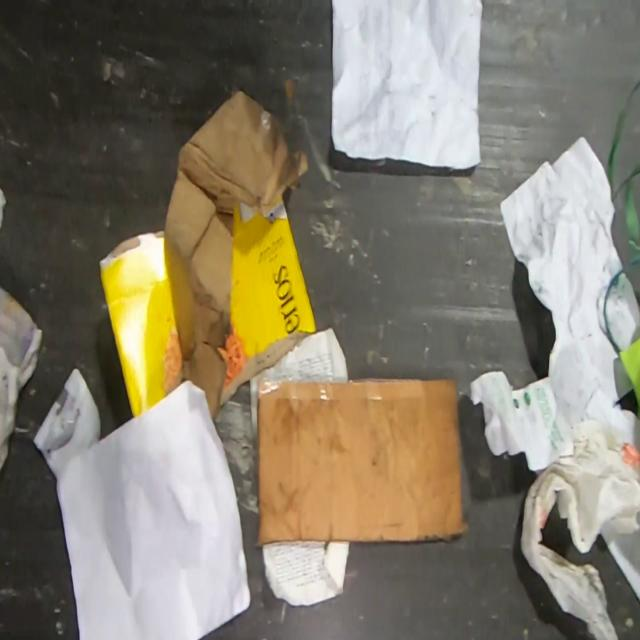cardboard: (98, 87, 317, 422), (256, 377, 468, 548)
soft_plastic: (520, 418, 640, 640)
